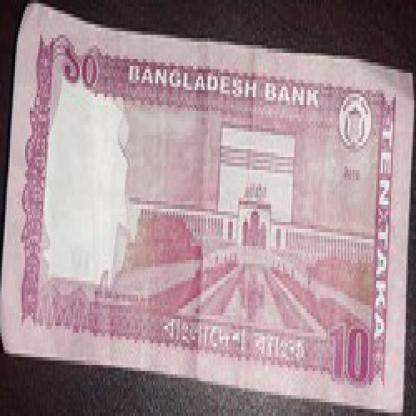Ten Taka: (331, 315, 373, 398), (66, 35, 96, 104)
